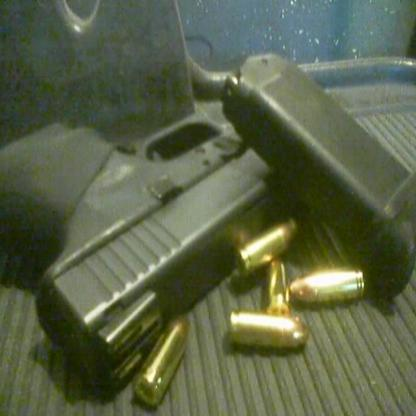Handgun: (0, 53, 416, 403)
